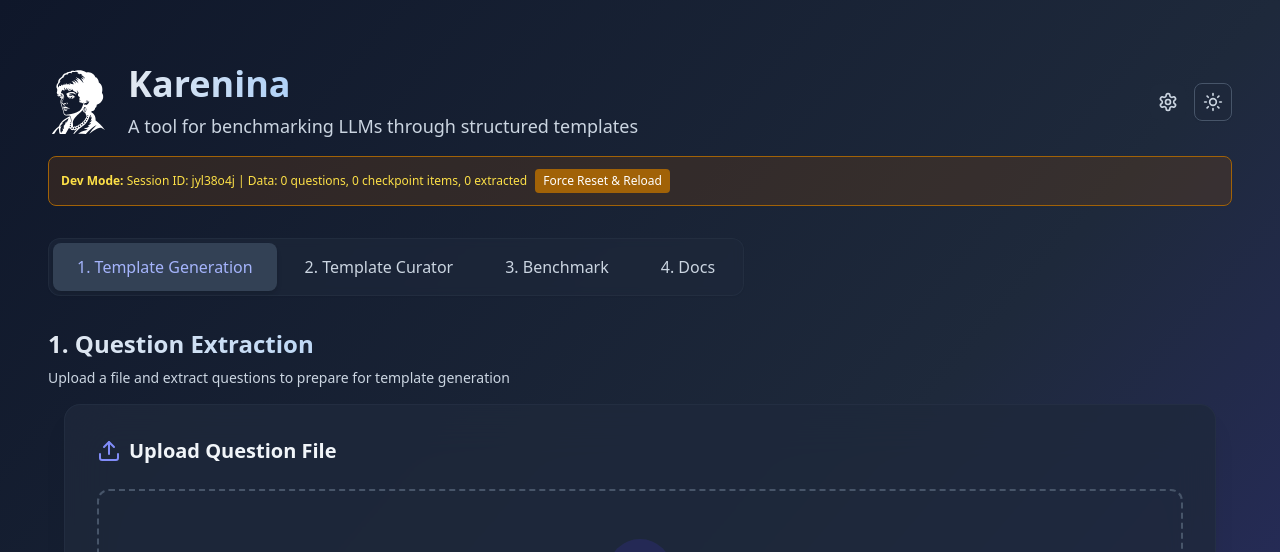
Test: App Component › Tab Navigation › should switch between tabs correctly
Expected: the heading "1. Question Extraction" is shown, left=48, top=328, right=1232, bottom=360
Note: Click on Template Curator tab
What coordinates should you click on to do the following:
click the button "2. Template Curator"
I would click on:
 (379, 267)
Its box is left=281, top=243, right=477, bottom=291.
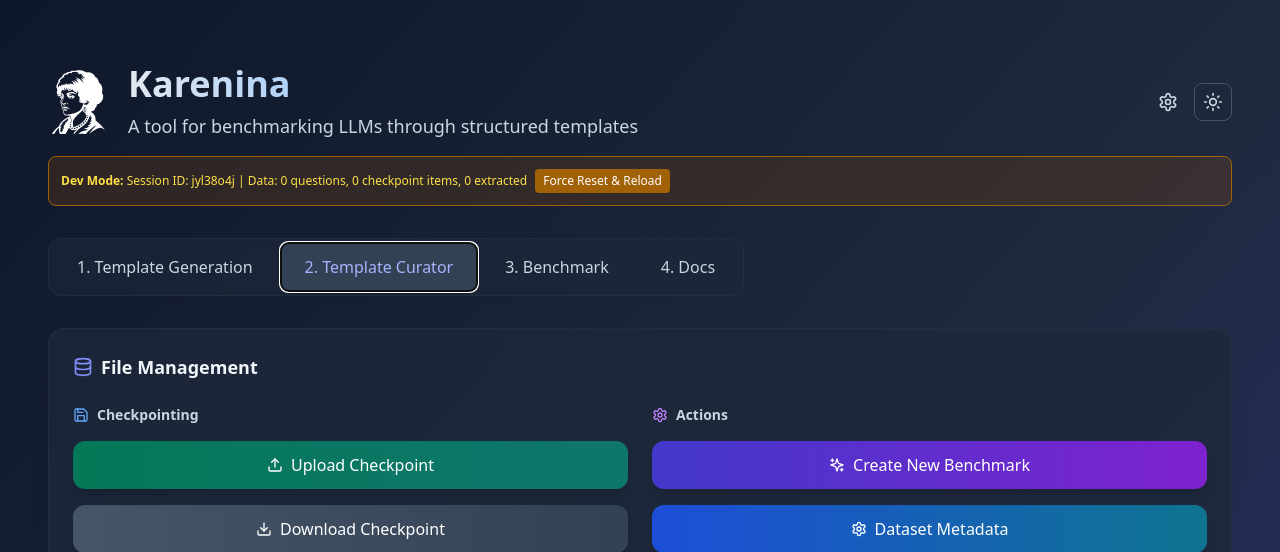
Now the heading "File Management" is shown, box left=73, top=355, right=258, bottom=379
Note: Click on Benchmark tab
What coordinates should you click on to do the following:
click the button "3. Benchmark"
I would click on:
 (557, 267)
Its box is left=481, top=243, right=633, bottom=291.
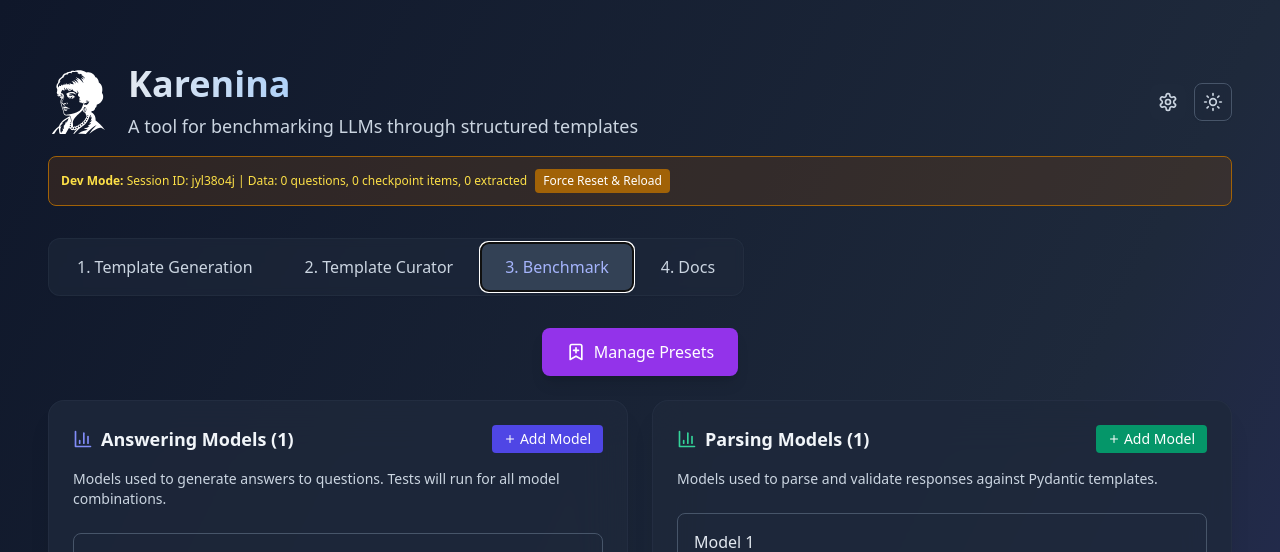
Note: Go back to Template Generation
What coordinates should you click on to do the following:
click the button "1. Template Generation"
I would click on:
 (165, 267)
Its box is left=53, top=243, right=277, bottom=291.
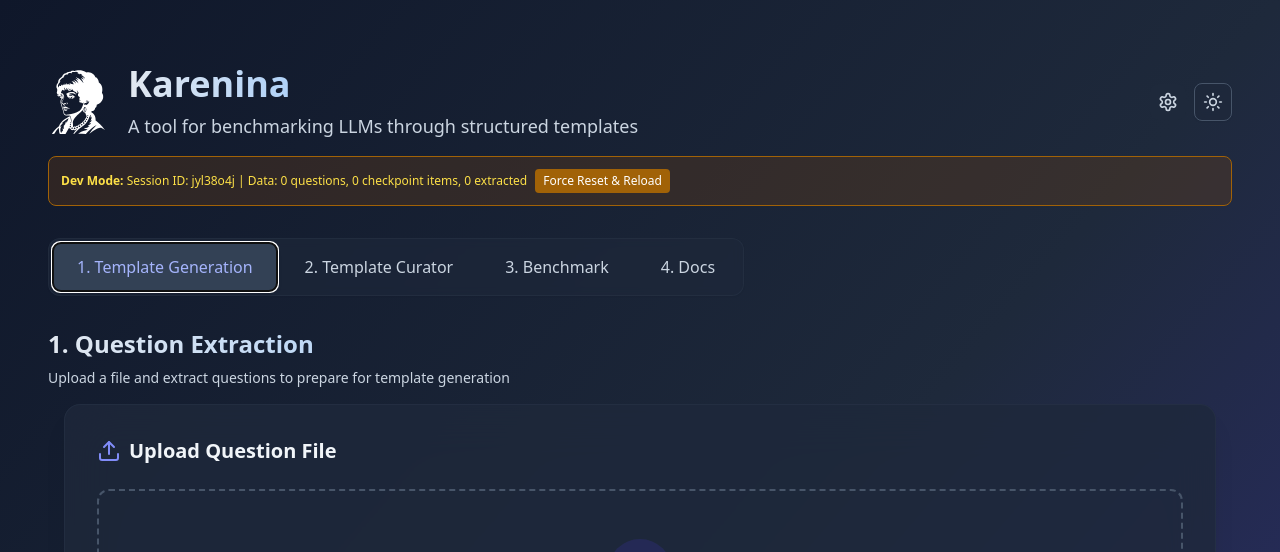
Now the heading "1. Question Extraction" is shown, box left=48, top=328, right=1232, bottom=360
